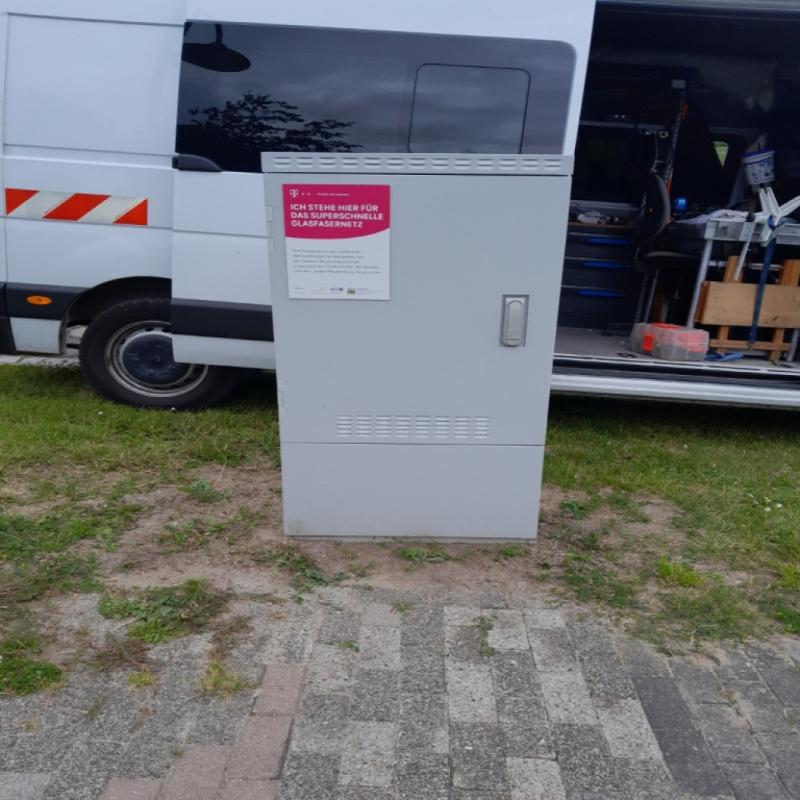NT-Gehause: (268, 151, 556, 538)
Steaker: (286, 184, 393, 304)
